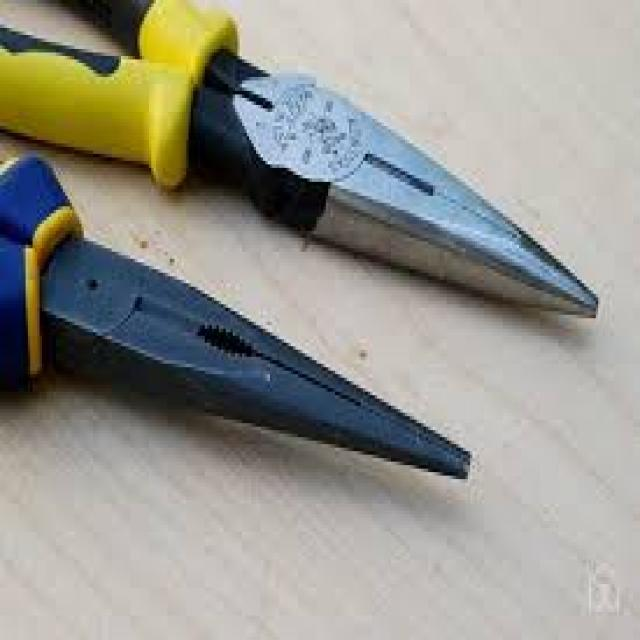pliers: (25, 0, 602, 311), (0, 131, 483, 488)
